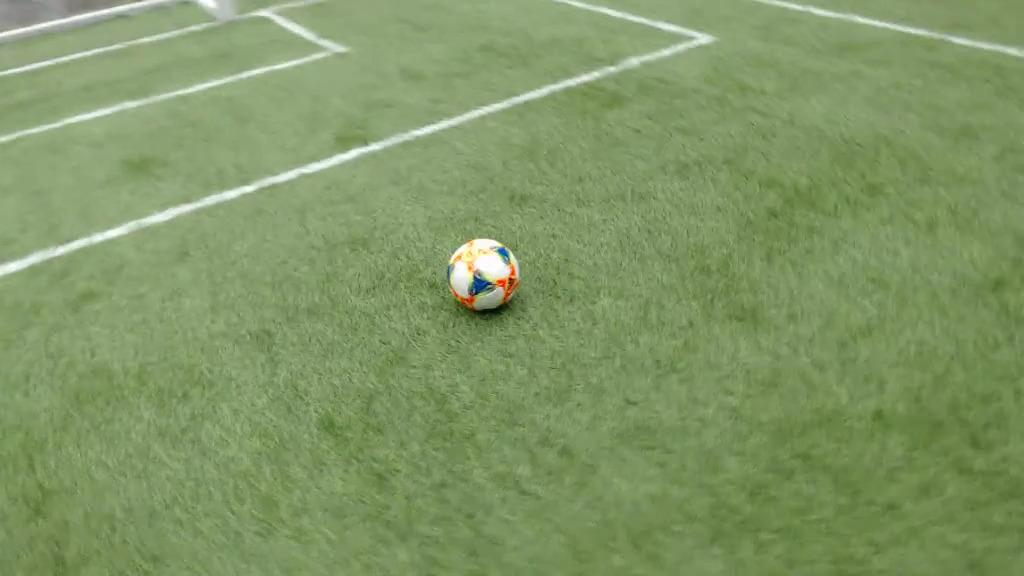ball: (448, 239, 520, 312)
